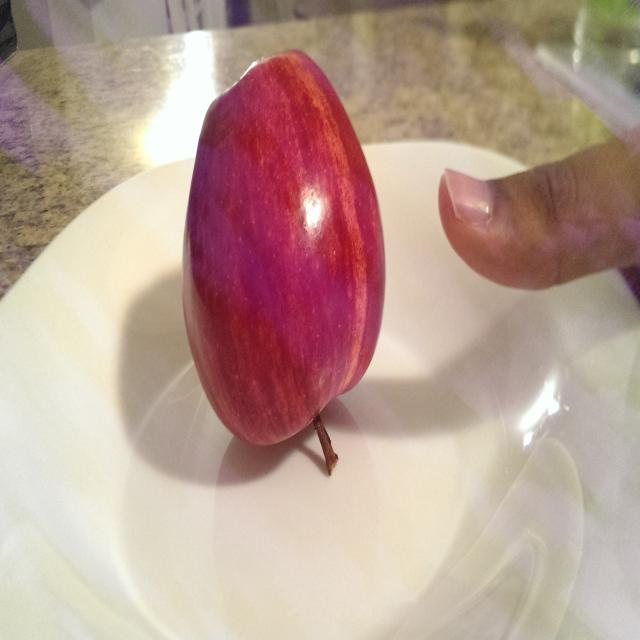apple: (172, 42, 391, 509)
